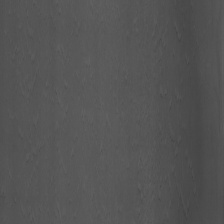silk_spot: (113, 20, 196, 198), (45, 56, 77, 132)
